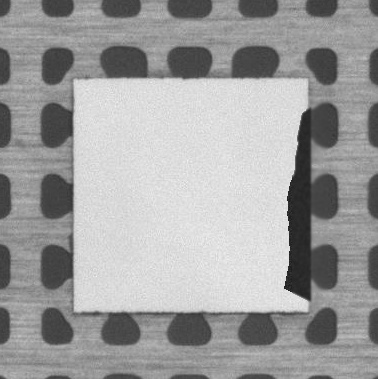DIE_BROKEN: (284, 104, 313, 301)
